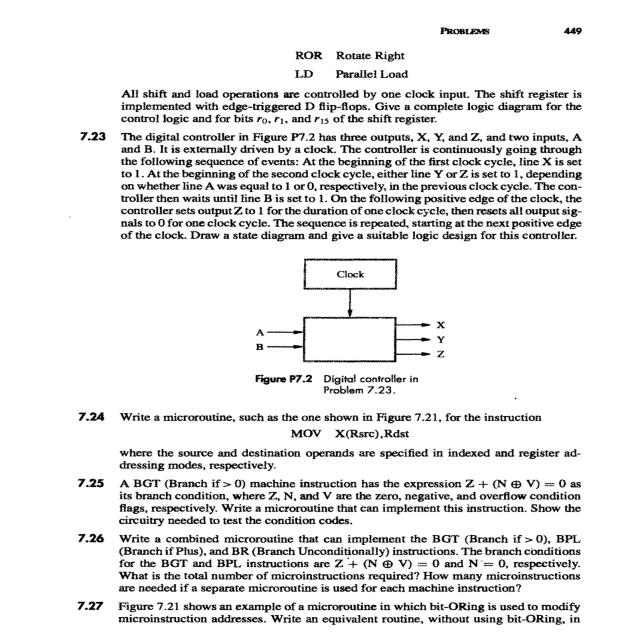diagram: (141, 237, 640, 405)
